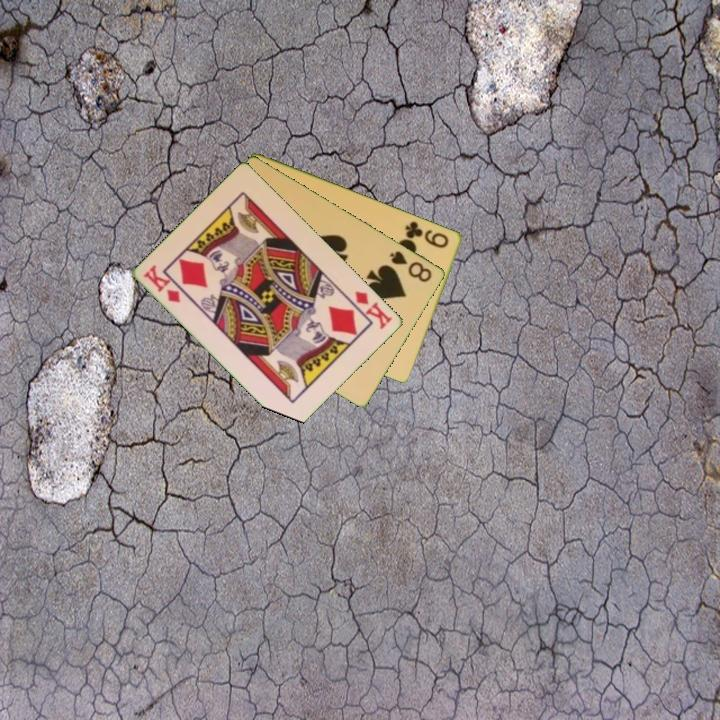8s: (386, 247, 435, 285)
9c: (402, 217, 452, 251)
Kd: (344, 287, 396, 332), (140, 261, 184, 306)
